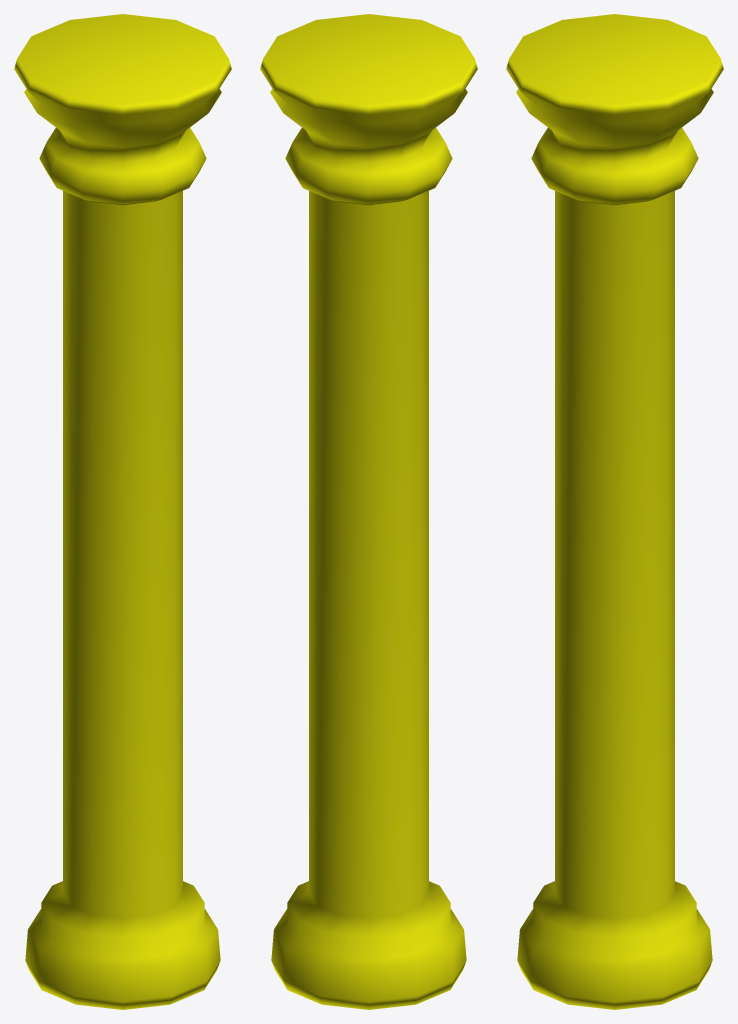
Rendered from S_Pillar_01.fbx.
3 renders of one model, left to right at view 1: azimuth 30°, elevation 25°; view 2: azimuth 150°, elevation 25°; view 3: azimuth 270°, elevation 25°, orthographic.
Parts seen in each view (by area): view 1: S_Pillar_01; view 2: S_Pillar_01; view 3: S_Pillar_01.
Boxes of the visible parts, bbox=[...] form: S_Pillar_01: bbox=[14, 14, 231, 1009]; S_Pillar_01: bbox=[260, 14, 477, 1009]; S_Pillar_01: bbox=[506, 14, 723, 1009].
Size of the model in its own units: 47.93 by 221 by 47.93.
